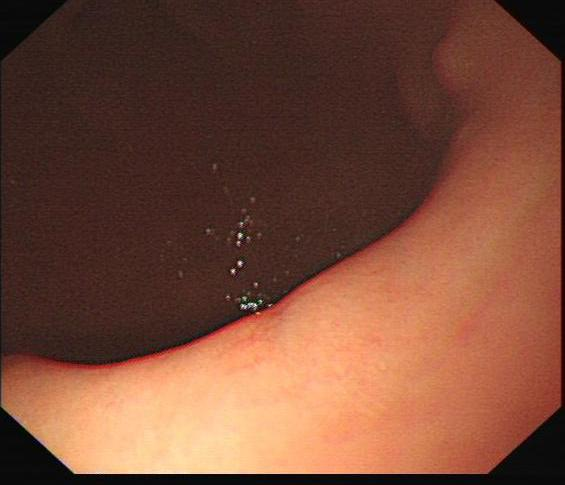Polyp: (421, 25, 482, 108)
